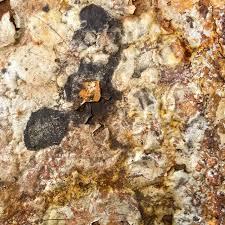rust: (52, 4, 130, 130), (128, 143, 224, 225), (14, 98, 124, 153), (27, 165, 147, 209), (176, 35, 203, 73), (155, 8, 181, 43)
